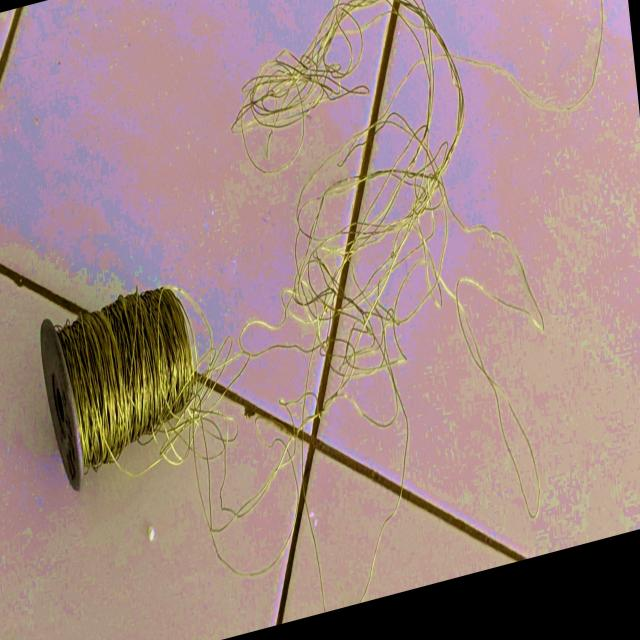Wire Coil: (28, 254, 213, 517)
